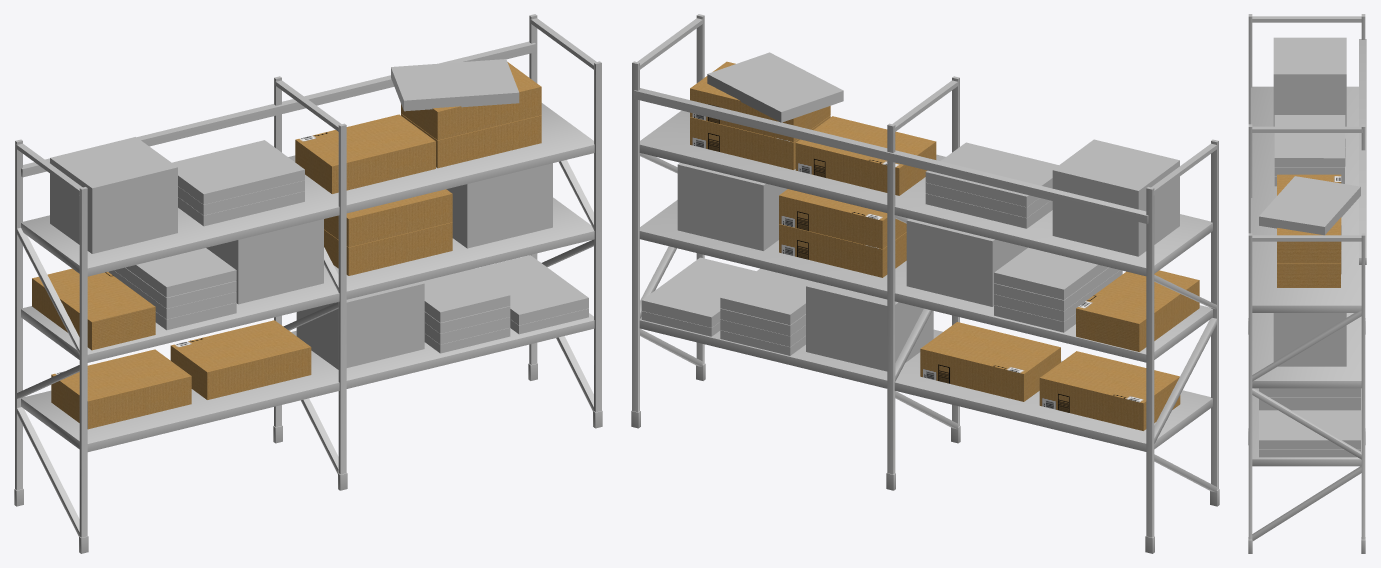
File: aws_robomaker_warehouse_ShelfE_01_visual.DAE
3 renders of one model, left to right at view 1: azimuth 30°, elevation 25°; view 2: azimuth 150°, elevation 25°; view 3: azimuth 270°, elevation 25°, orthographic. The views are drawn at different scales.
Parts seen in each view (by area): view 1: aws_robomaker_warehouse_ShelfE_01_visual; view 2: aws_robomaker_warehouse_ShelfE_01_visual; view 3: aws_robomaker_warehouse_ShelfE_01_visual.
Boxes of the visible parts, x1,y1,x2,y2 form: aws_robomaker_warehouse_ShelfE_01_visual: [14, 14, 602, 553]; aws_robomaker_warehouse_ShelfE_01_visual: [631, 14, 1219, 553]; aws_robomaker_warehouse_ShelfE_01_visual: [1248, 14, 1366, 553].
Bounding box in the file's own units: 392 × 87.95 × 261.
